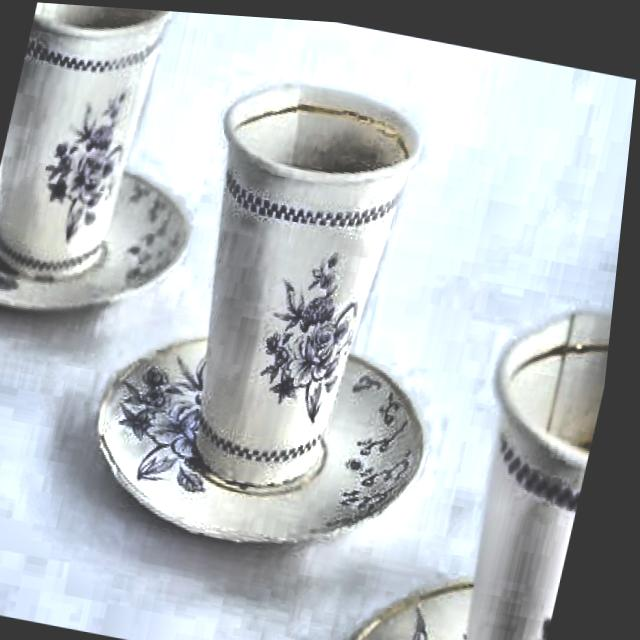Cup: (149, 51, 439, 508)
